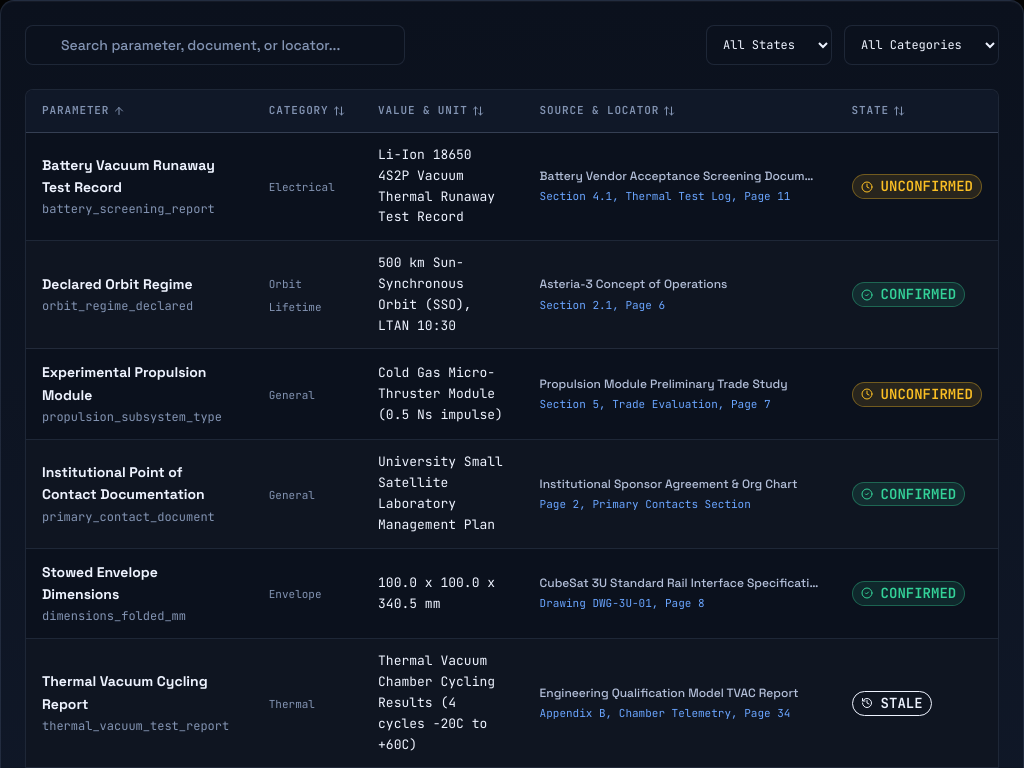
Test case: Slice 5: Workspace Flow, Context & Evidence Register › DataTable Component › filters rows by evidence state
The image size is (1024, 768).
Select "Conflicting" in the dropdown named "Filter by evidence state". click: (769, 45)
box: [706,25,832,65]
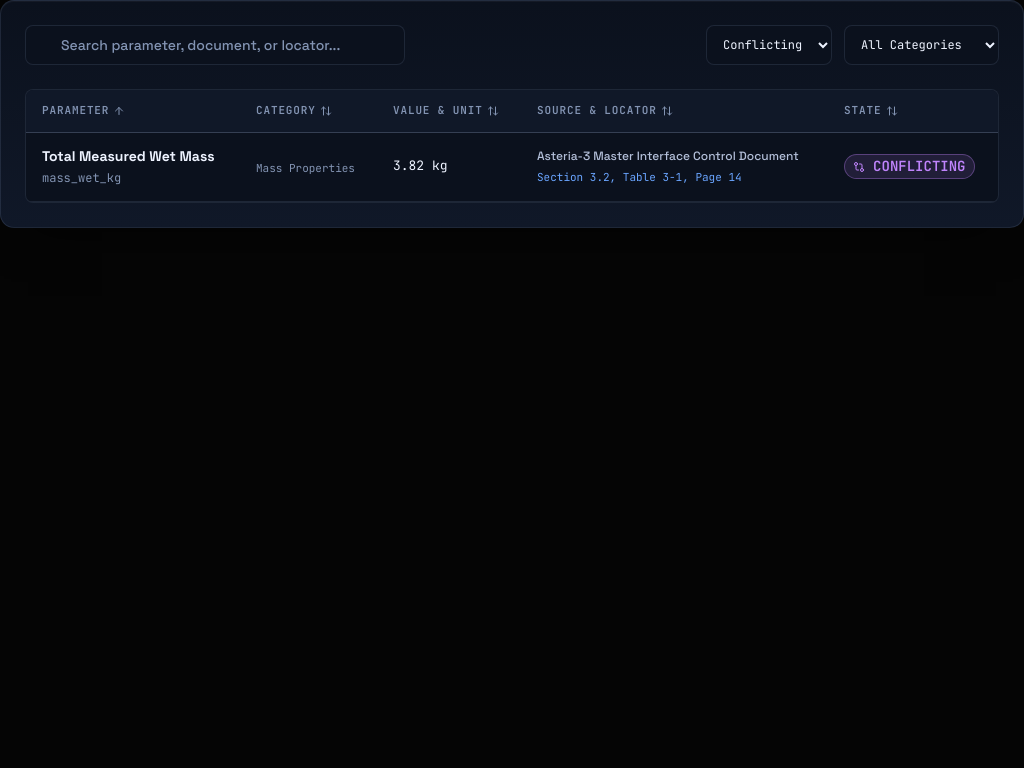
Expected: the text "Total Measured Wet Mass" is shown, [42,145,224,167]
Expected: the text "Stowed Envelope Dimensions" is gone
